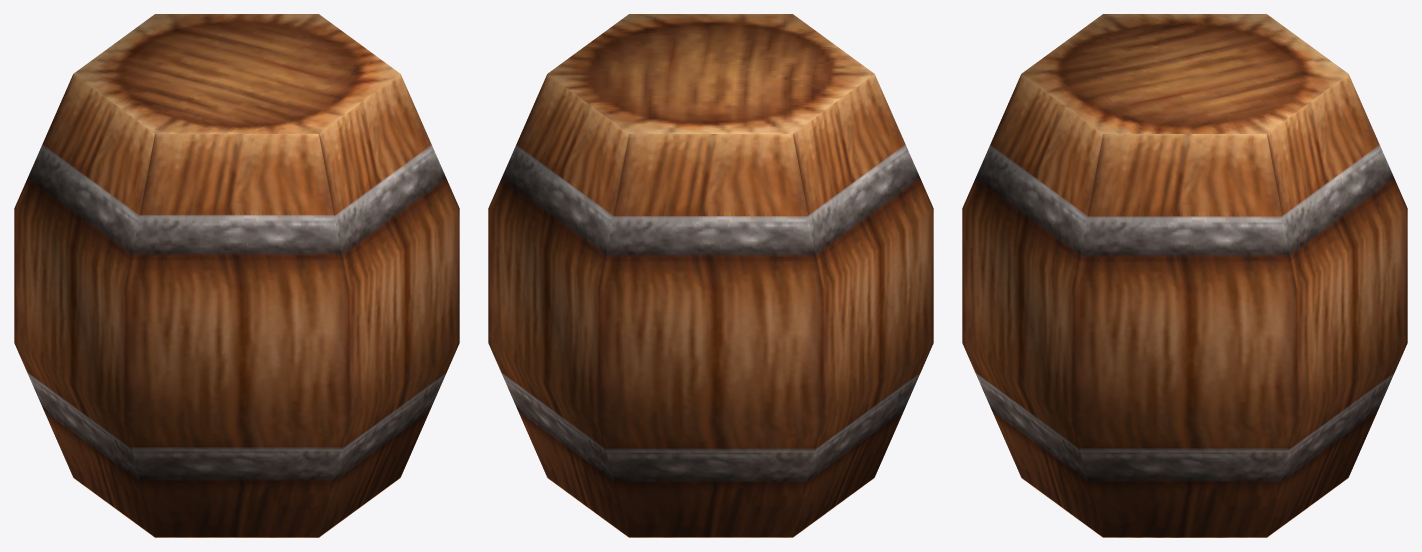
The model's file is barrel01.glb.
3 views of the same model, side by side, from view 1: azimuth 30°, elevation 25°; view 2: azimuth 150°, elevation 25°; view 3: azimuth 270°, elevation 25° (orthographic).
Size of the model in its own units: 0.8592 by 0.9933 by 0.9921.
Materials: 1 (1 with a texture image).
